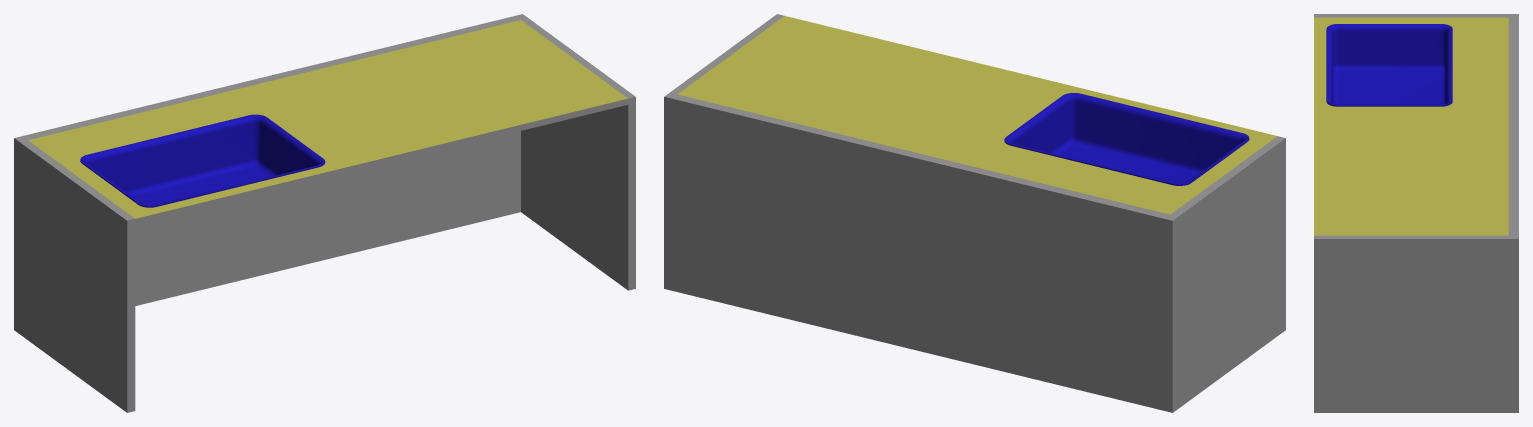
Rendered from Table_Sink_high.fbx.
3 renders of one model, left to right at view 1: azimuth 30°, elevation 25°; view 2: azimuth 150°, elevation 25°; view 3: azimuth 270°, elevation 25°, orthographic. The views are drawn at different scales.
Parts seen in each view (by area): view 1: Table_Sink_high; view 2: Table_Sink_high; view 3: Table_Sink_high.
Boxes of the visible parts, left/top/right/bottom form: Table_Sink_high: left=14, top=14, right=635, bottom=412; Table_Sink_high: left=664, top=14, right=1285, bottom=412; Table_Sink_high: left=1314, top=14, right=1518, bottom=412.
Bounding box in the file's own units: 260 × 94.52 × 100.
